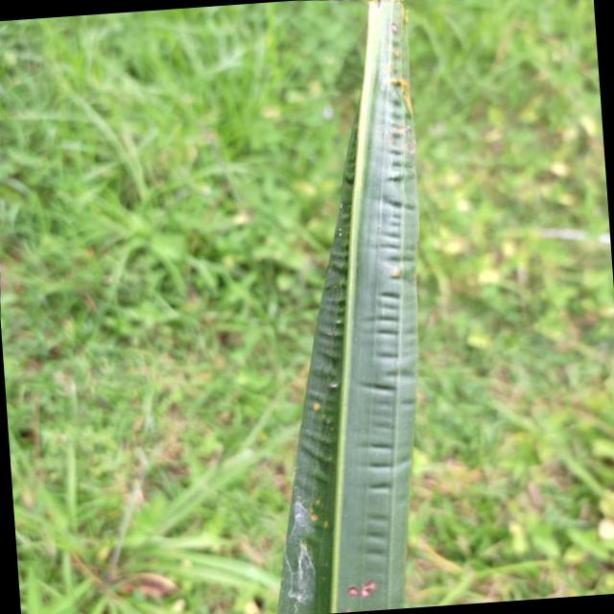Boron: (281, 0, 419, 614)
